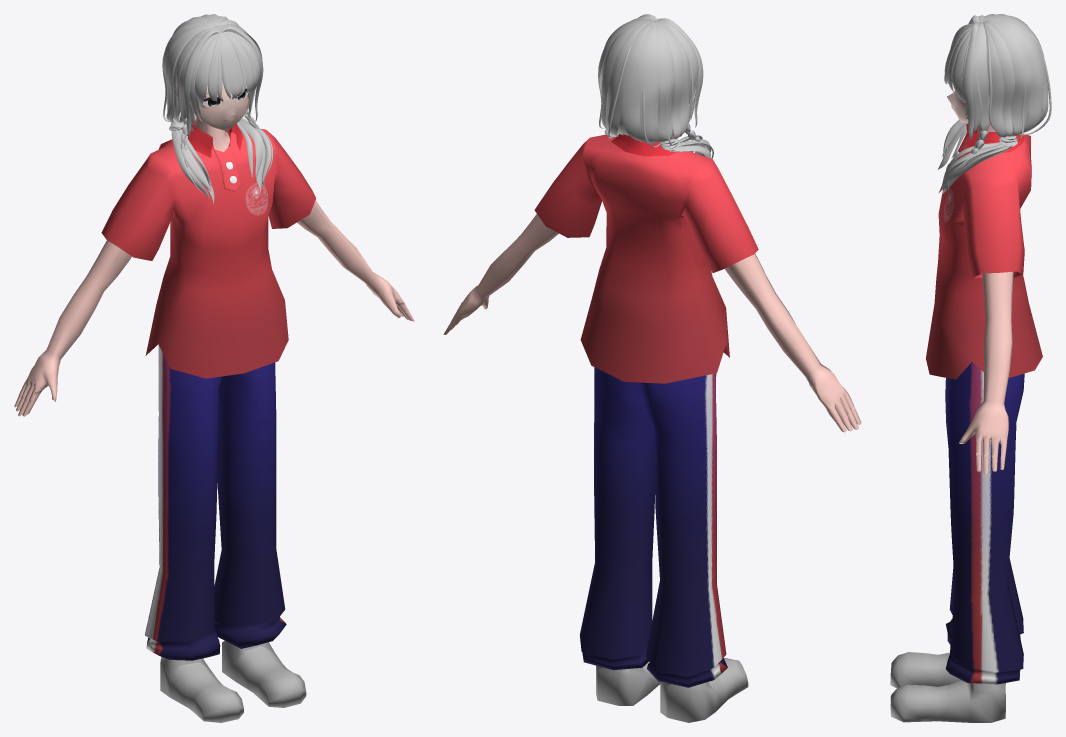
The model's file is Character.fbx.
The picture shows the model from 3 angles, left to right: view 1: azimuth 30°, elevation 25°; view 2: azimuth 150°, elevation 25°; view 3: azimuth 270°, elevation 25°; orthographic projection. The views are drawn at different scales.
Visible parts, largest first — view 1: Body.001, Hair, Eyes; view 2: Body.001, Hair; view 3: Body.001, Hair, Eyes.
Boxes of the visible parts, x1,y1,x2,y2 form: Body.001: (14, 117, 414, 722); Hair: (162, 14, 273, 203); Eyes: (175, 81, 248, 130); Body.001: (443, 133, 861, 722); Hair: (598, 14, 713, 158); Body.001: (890, 124, 1042, 722); Hair: (938, 14, 1051, 193); Eyes: (947, 81, 989, 122).
Bounding box in the file's own units: 118 × 189 × 40.81.
